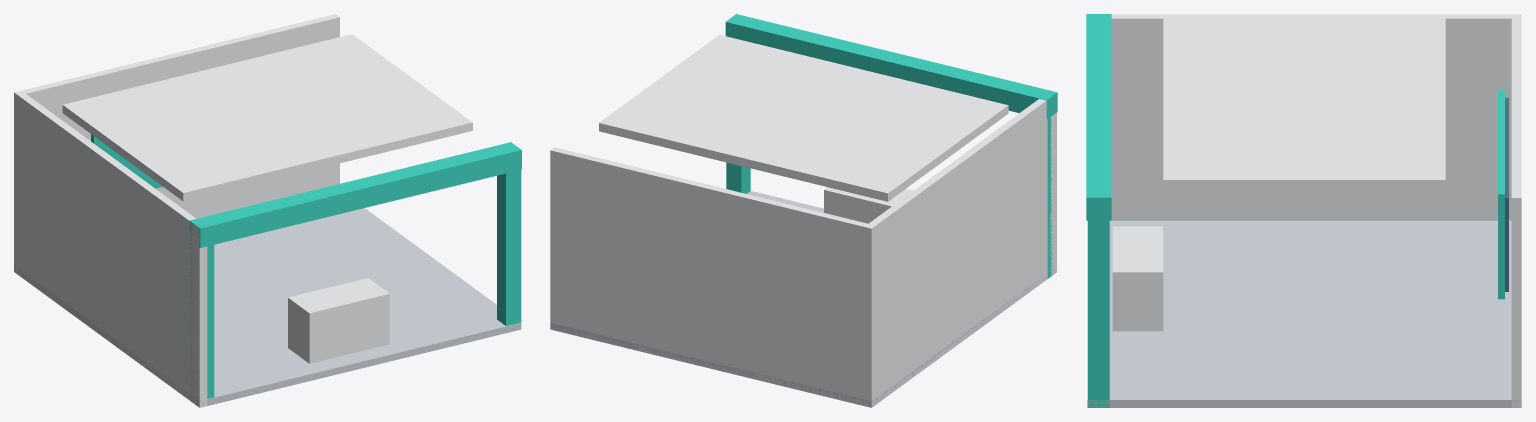
3 views of the same model, side by side, from view 1: azimuth 30°, elevation 25°; view 2: azimuth 150°, elevation 25°; view 3: azimuth 270°, elevation 25° (orthographic). The views are drawn at different scales.
Visible parts, largest first — view 1: Exhibition Booth Concept; view 2: Exhibition Booth Concept; view 3: Exhibition Booth Concept.
Part boxes in pixels (x1,y1,x2,y2): Exhibition Booth Concept: (14, 14, 521, 407); Exhibition Booth Concept: (550, 14, 1057, 407); Exhibition Booth Concept: (1086, 14, 1521, 407).
Bounding box in the file's own units: 6 × 3.34 × 6.02.
